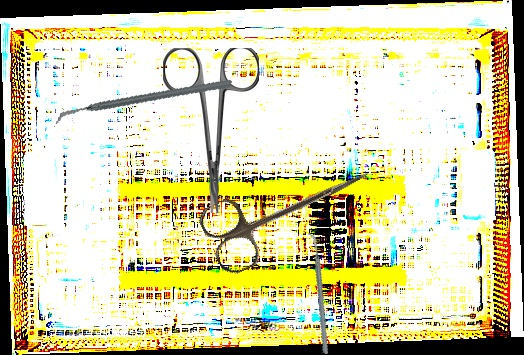Chopper: (53, 43, 233, 161), (272, 232, 364, 355)
Iris Scissors: (194, 137, 382, 280), (163, 48, 259, 213)
